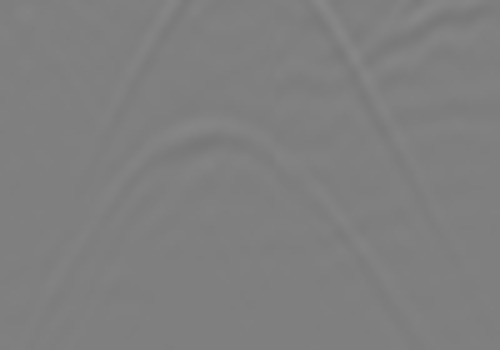hyperbola: (52, 117, 385, 320)
